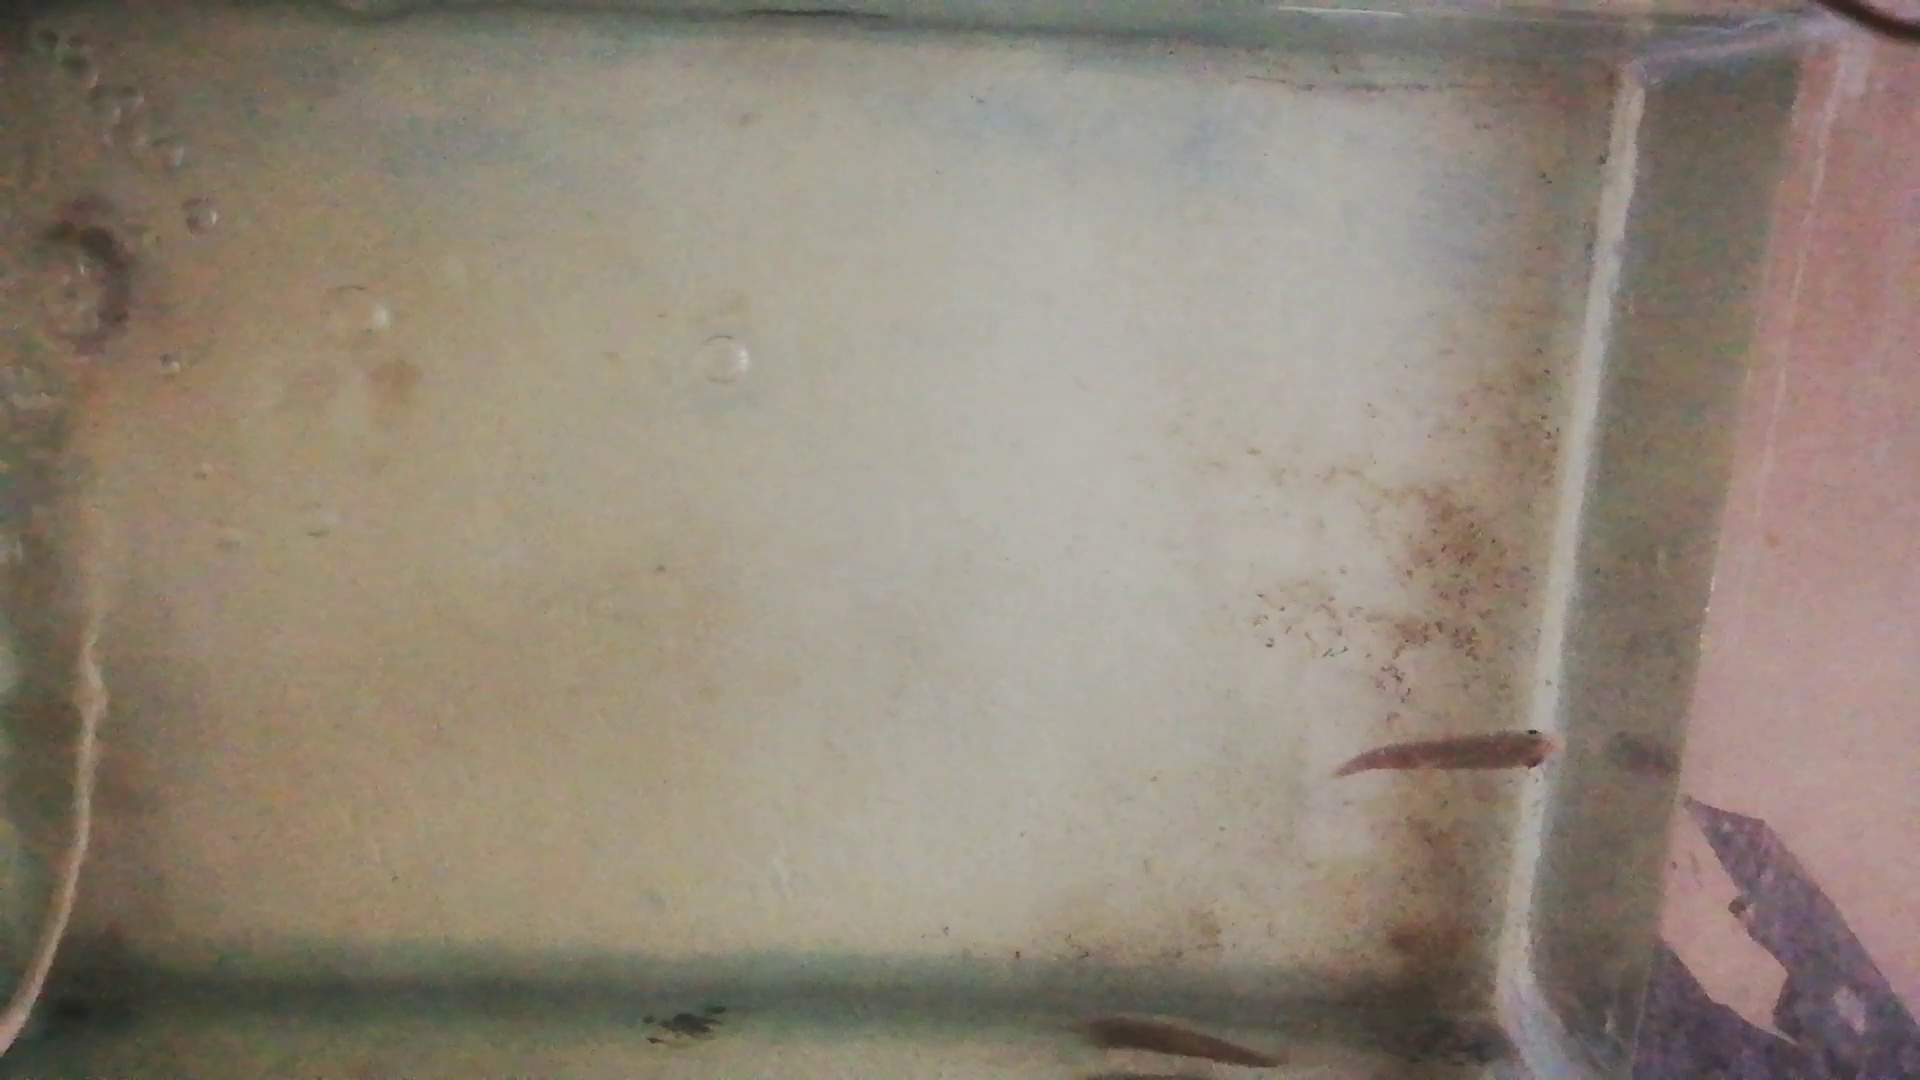fish: (1077, 1011, 1284, 1073), (1336, 729, 1564, 775)
